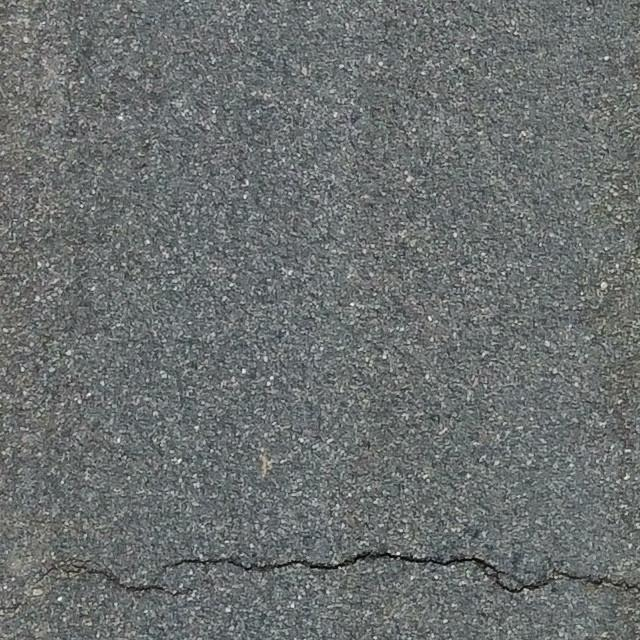TransverseCrack: (39, 549, 640, 595)
